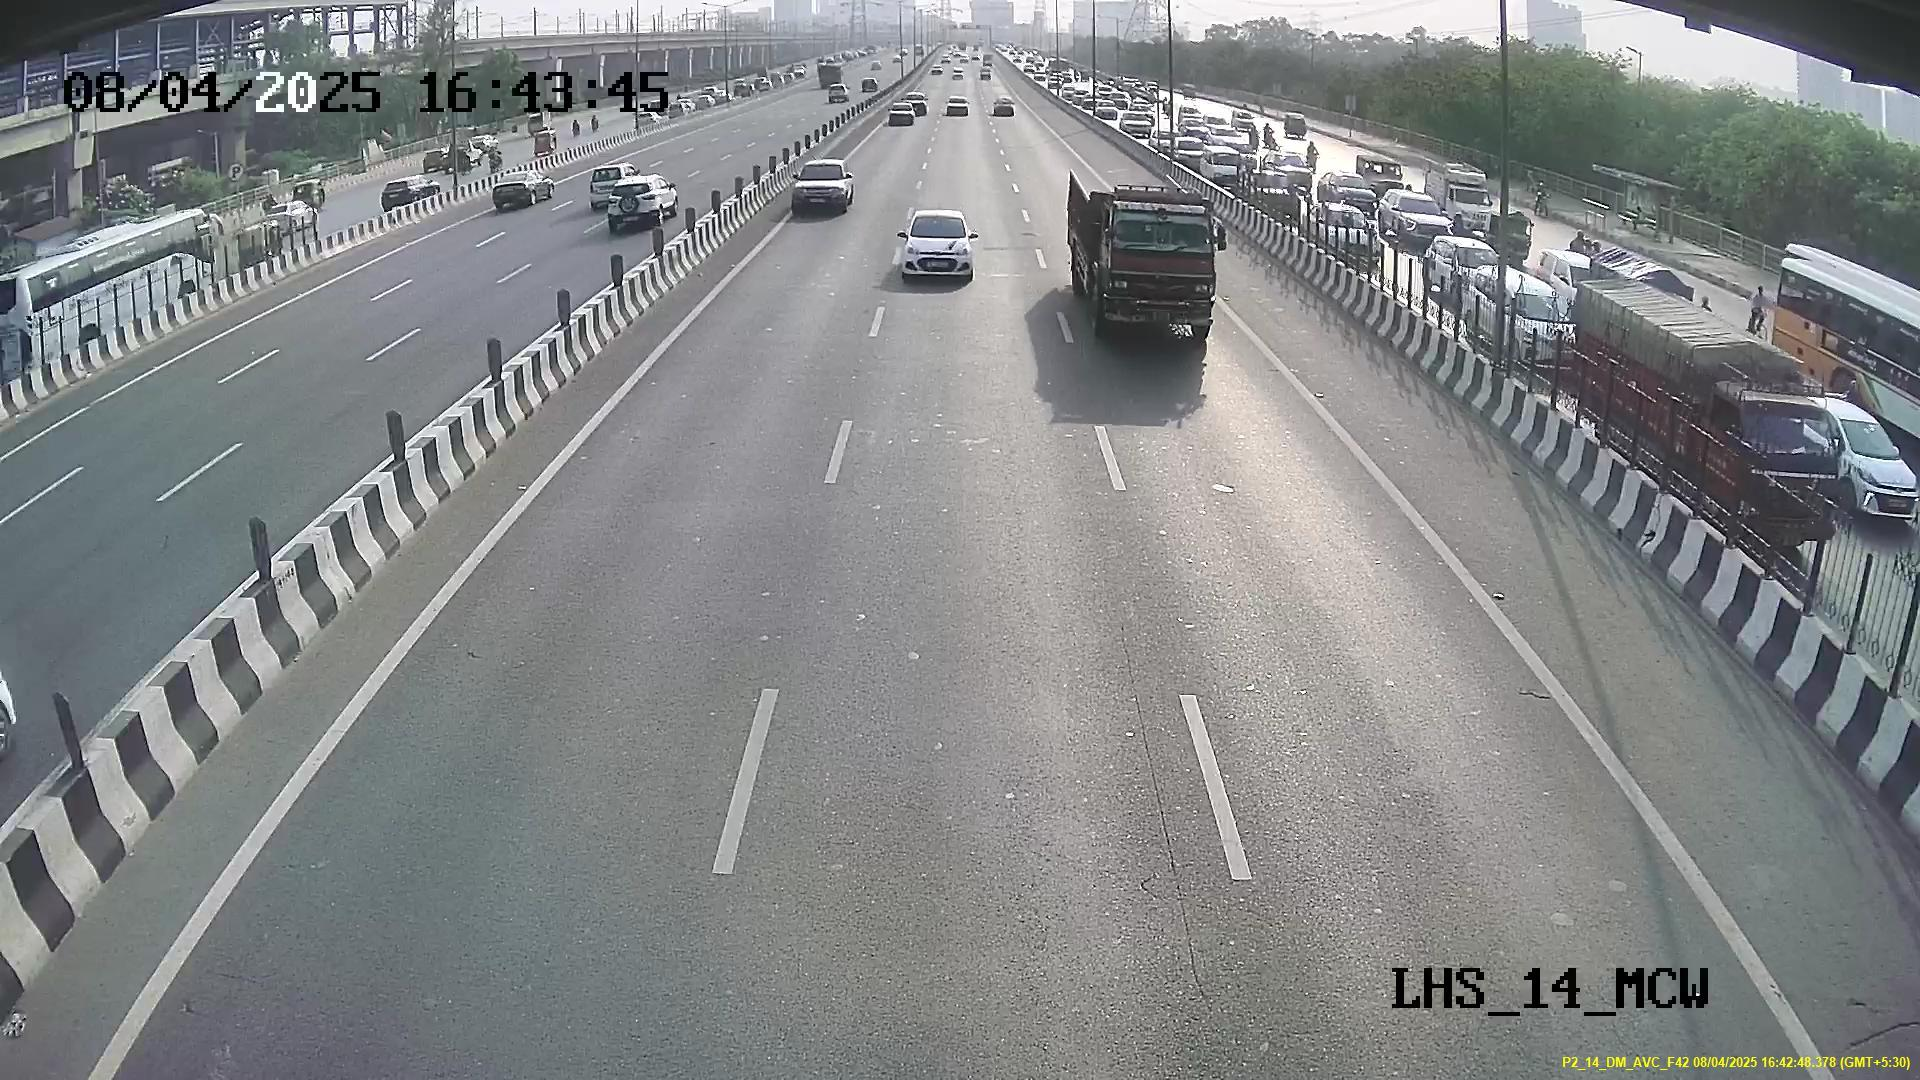car: (897, 207, 980, 286)
lcv: (1092, 199, 1221, 344)
